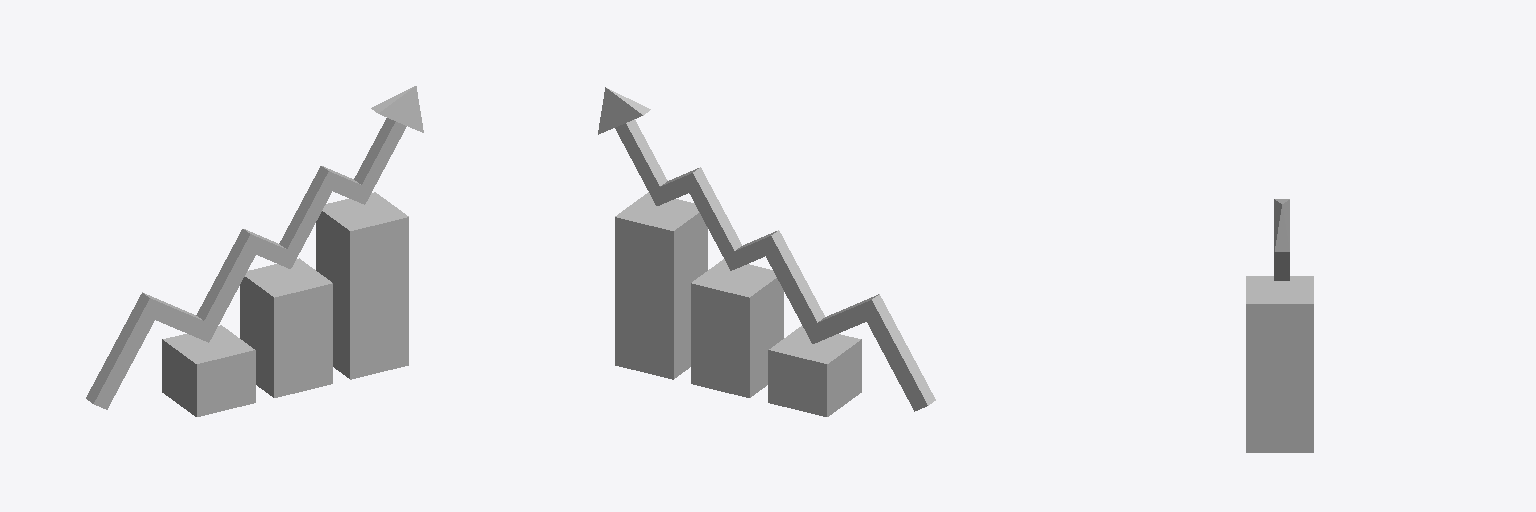
The model's file is stat.obj.
3 views of the same model, side by side, from view 1: azimuth 30°, elevation 25°; view 2: azimuth 150°, elevation 25°; view 3: azimuth 270°, elevation 25° (orthographic).
Parts seen in each view (by area): view 1: Cube.002_0, Cube.001_0, Cube.003_0_3, Cube_0, Cube.003_0_15, Cube.003_0_1, Cube.003_0_6, Cube.003_0_12; view 2: Cube.002_0, Cube.001_0, Cube.003_0_2, Cube_0, Cube.003_0_15, Cube.003_0_1, Cube.003_0_6, Cube.003_0_12; view 3: Cube.002_0, Cube.003_0_15.
Part boxes in pixels (left/top/right/bottom): Cube.002_0: left=316, top=192, right=408, bottom=379; Cube.001_0: left=240, top=258, right=332, bottom=397; Cube.003_0_3: left=94, top=122, right=406, bottom=409; Cube_0: left=162, top=325, right=255, bottom=416; Cube.003_0_15: left=354, top=86, right=423, bottom=184; Cube.003_0_1: left=86, top=293, right=149, bottom=403; Cube.003_0_6: left=196, top=229, right=249, bottom=320; Cube.003_0_12: left=279, top=166, right=328, bottom=248; Cube.002_0: left=615, top=192, right=707, bottom=379; Cube.001_0: left=691, top=259, right=783, bottom=397; Cube.003_0_2: left=615, top=123, right=927, bottom=411; Cube_0: left=768, top=326, right=861, bottom=416; Cube.003_0_15: left=598, top=87, right=667, bottom=185; Cube.003_0_1: left=872, top=294, right=935, bottom=405; Cube.003_0_6: left=771, top=230, right=824, bottom=322; Cube.003_0_12: left=693, top=167, right=741, bottom=250; Cube.002_0: left=1246, top=276, right=1313, bottom=452; Cube.003_0_15: left=1274, top=199, right=1289, bottom=251.
Bounding box in the file's own units: 3.63 × 2.74 × 0.648.